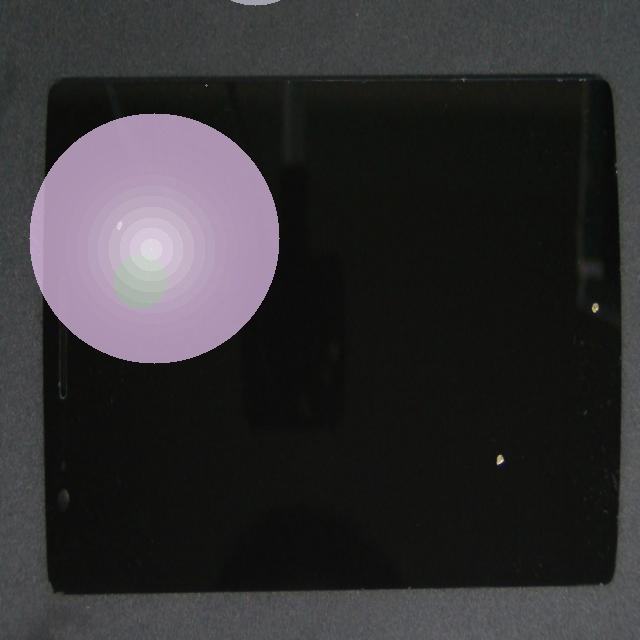stain: (253, 165, 640, 640), (303, 89, 640, 429), (69, 50, 171, 297)
